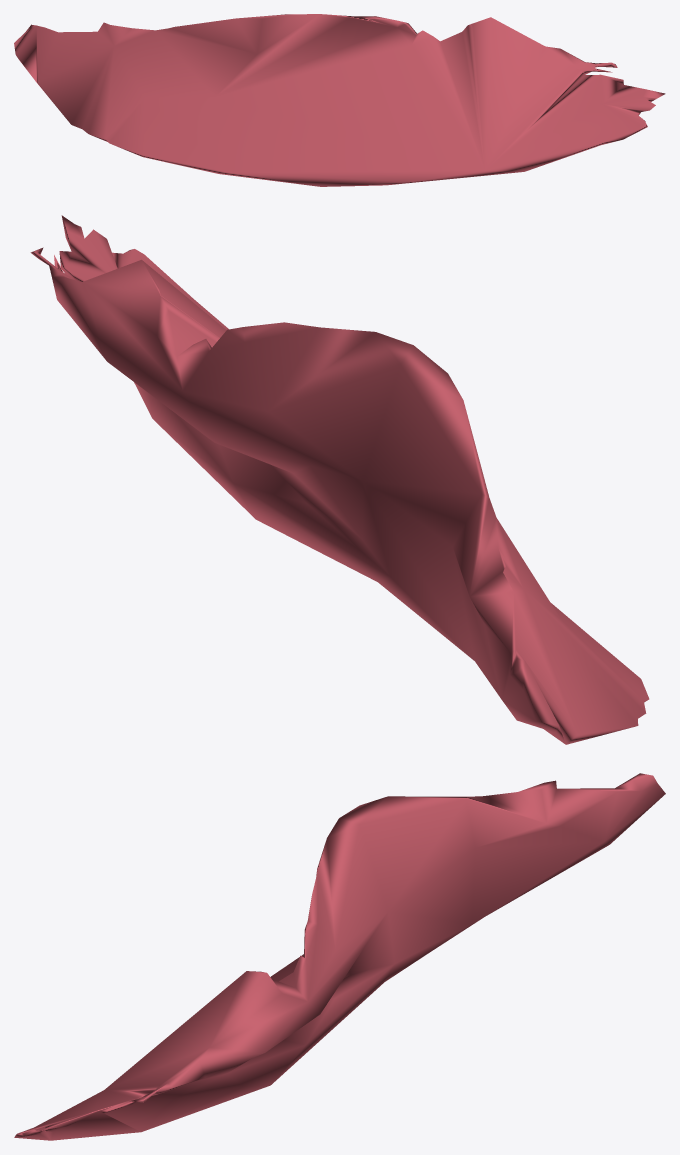
The picture shows the model from 3 angles, top to bottom: view 1: azimuth 30°, elevation 25°; view 2: azimuth 150°, elevation 25°; view 3: azimuth 270°, elevation 25°; orthographic projection. The views are drawn at different scales.
Visible parts, largest first — view 1: 左侧皱眉肌; view 2: 左侧皱眉肌; view 3: 左侧皱眉肌.
Part boxes in pixels (box(x1,y1,x2,y2)): 左侧皱眉肌: box(14, 14, 665, 186); 左侧皱眉肌: box(30, 215, 649, 744); 左侧皱眉肌: box(14, 773, 665, 1140).
Size of the model in its own units: 0.0334 by 0.0104 by 0.028.
